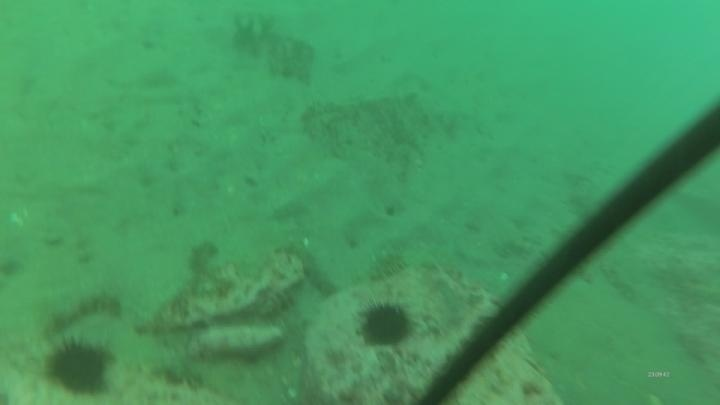echinus: (40, 333, 116, 400), (356, 299, 414, 350)
holothurian: (45, 287, 124, 334), (365, 248, 410, 284)
